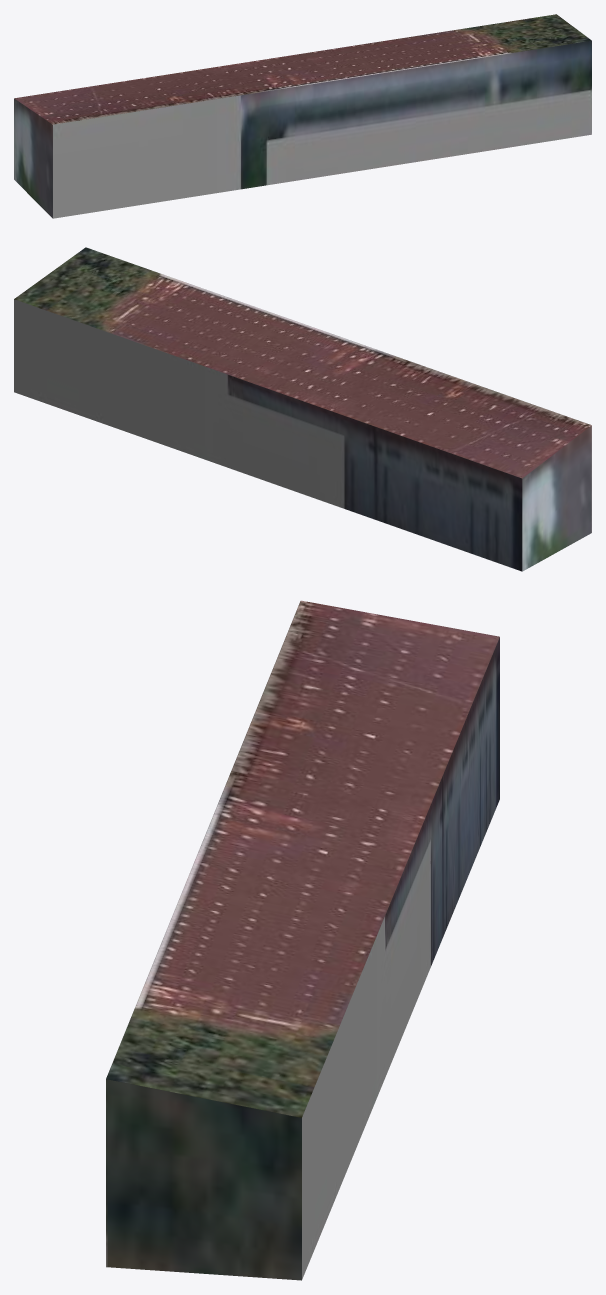
The picture shows the model from 3 angles, top to bottom: view 1: azimuth 30°, elevation 25°; view 2: azimuth 150°, elevation 25°; view 3: azimuth 270°, elevation 25°; orthographic projection. The views are drawn at different scales.
Parts seen in each view (by area): view 1: B281874040101062A0; view 2: B281874040101062A0; view 3: B281874040101062A0.
Boxes of the visible parts, x1=… form: B281874040101062A0: x1=14, y1=14, x2=591, y2=218; B281874040101062A0: x1=14, y1=247, x2=591, y2=571; B281874040101062A0: x1=106, y1=600, x2=499, y2=1280.
Size of the model in its own units: 18.54 by 3.3 by 6.28.
1 material, 1 textured.
